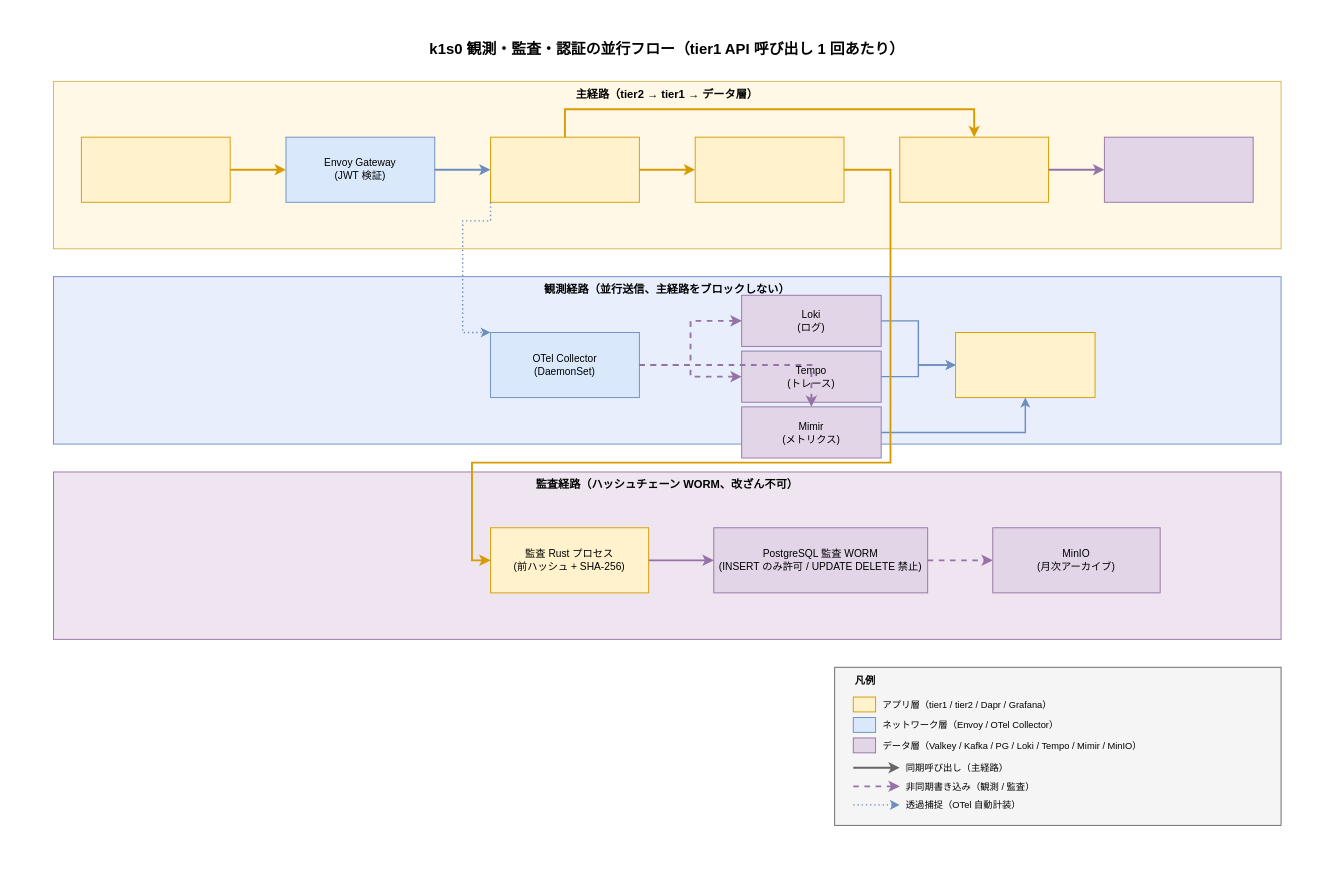
The diagram is 1334 pixels wide and 869 high, and some of its shapes have lost their labels. The shapes that lost their labels are listed below. From the top down, each one's centre as x and y in pixels, then its label:
At point (155, 169): "tier2 呼び出し元".
At point (564, 169): "tier1 公開 API (Go ファサード)".
At point (769, 169): "tier1 自作 Rust (crypto / 監査 / ZEN)".
At point (974, 169): "Dapr sidecar (SDK アダプタ)".
At point (1178, 169): "データ層 (Valkey / Kafka / PG)".
At point (1025, 365): "Grafana (可視化 UI)".
